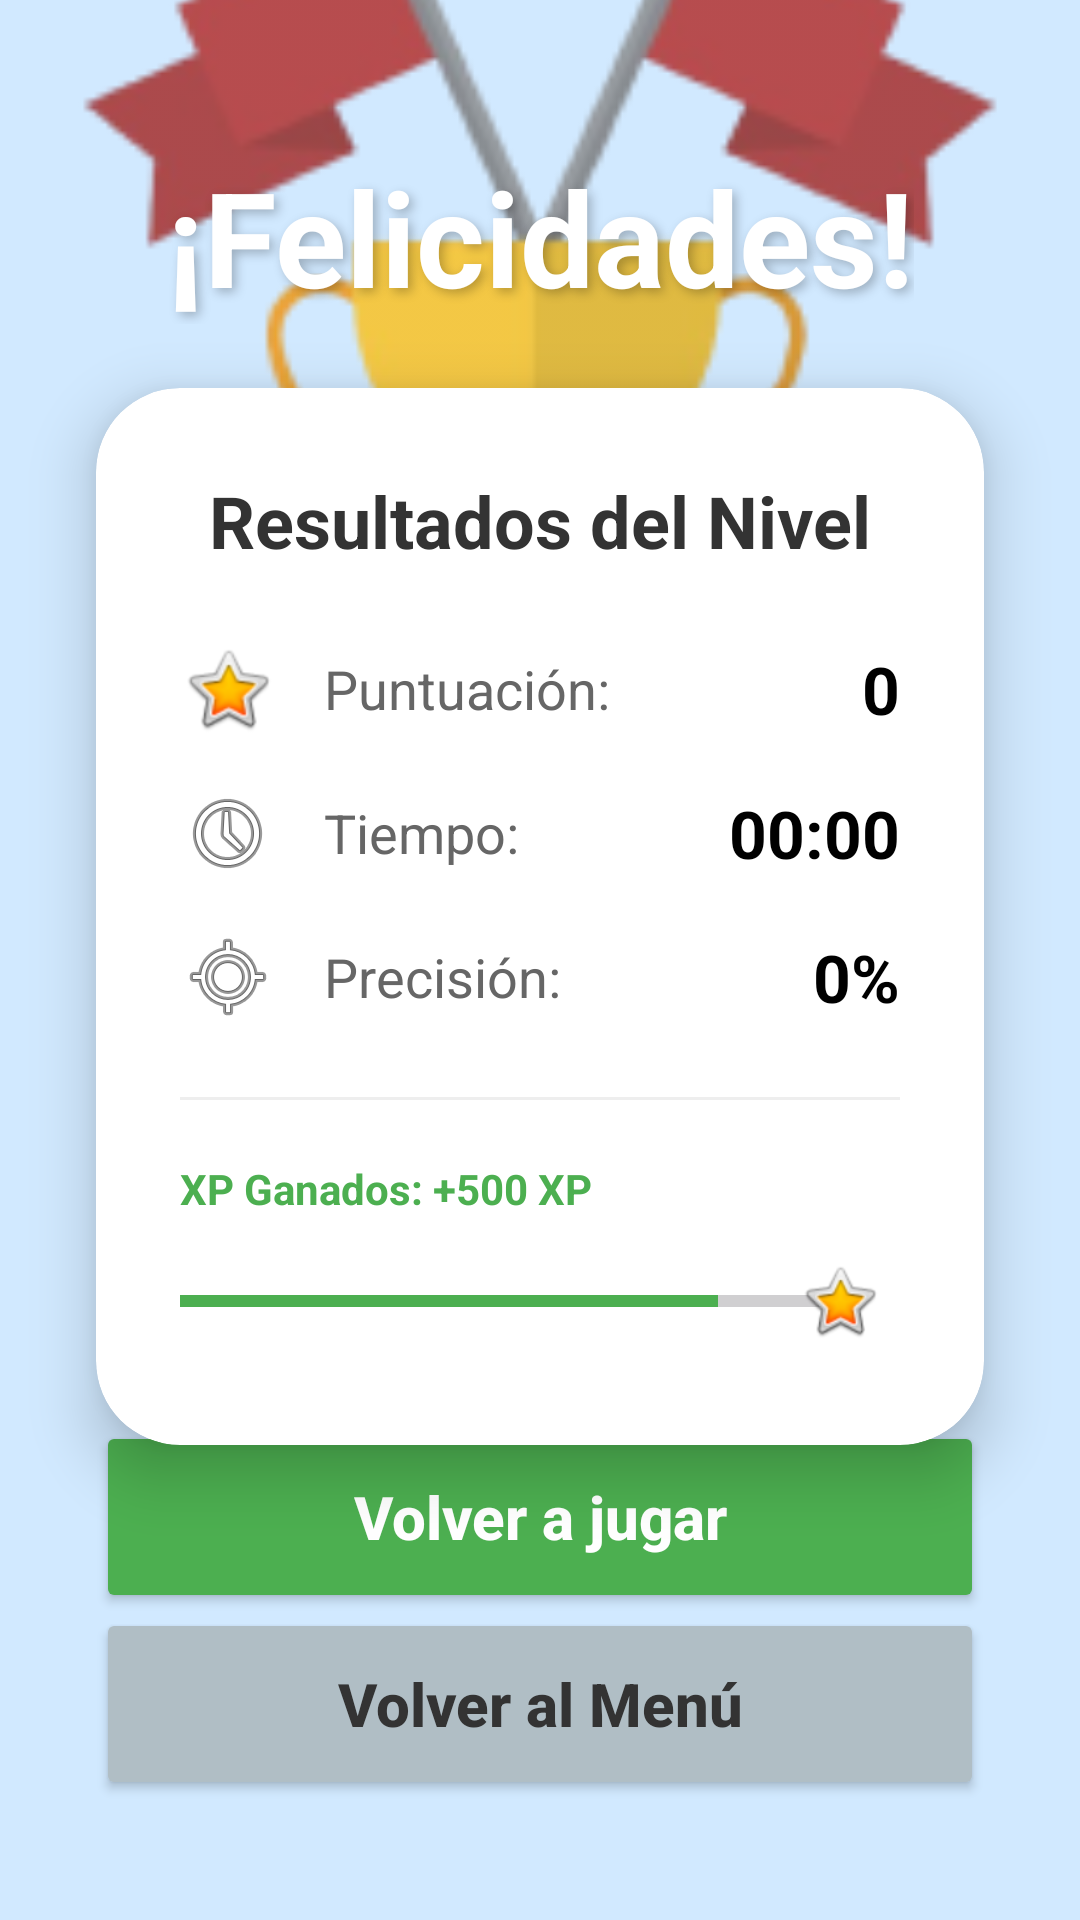

Point at icon controls on the screen. Image size 1080px x 1920px, points as point (x, y).
mylocation: point (228, 977)
recent history: point (227, 833)
